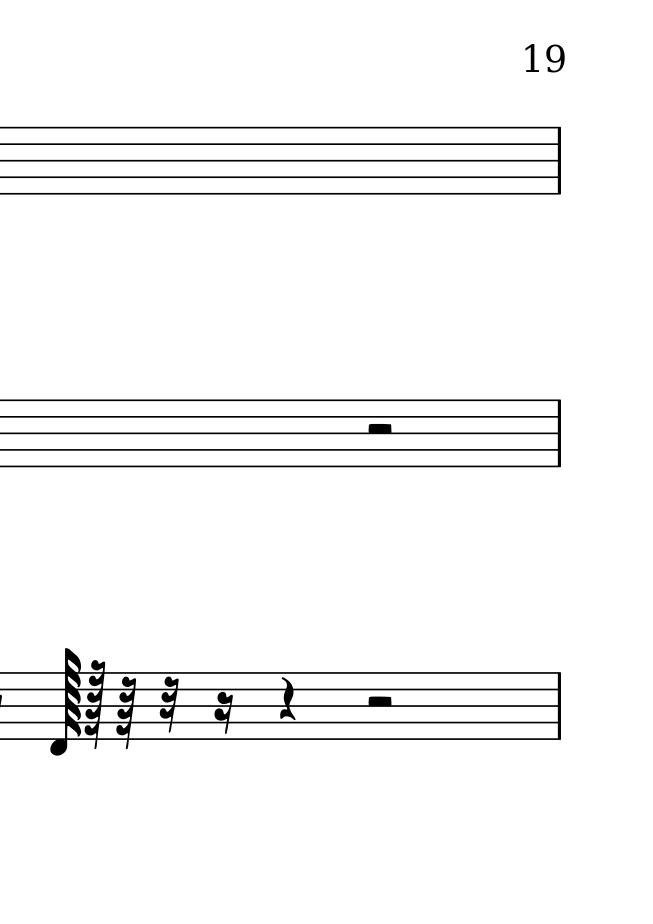1: (525, 38, 540, 78)
128_-1: (49, 648, 82, 757)
9: (545, 41, 565, 77)
Rests128: (84, 659, 108, 748)
Rests16: (213, 691, 234, 736)
Rests2: (364, 421, 396, 439), (364, 694, 395, 711)
Rests32: (158, 675, 180, 735)
Rests4: (277, 675, 297, 723)
Rests64: (116, 674, 137, 750)
Single_barline: (551, 399, 567, 466), (551, 128, 567, 194), (551, 673, 567, 738)
